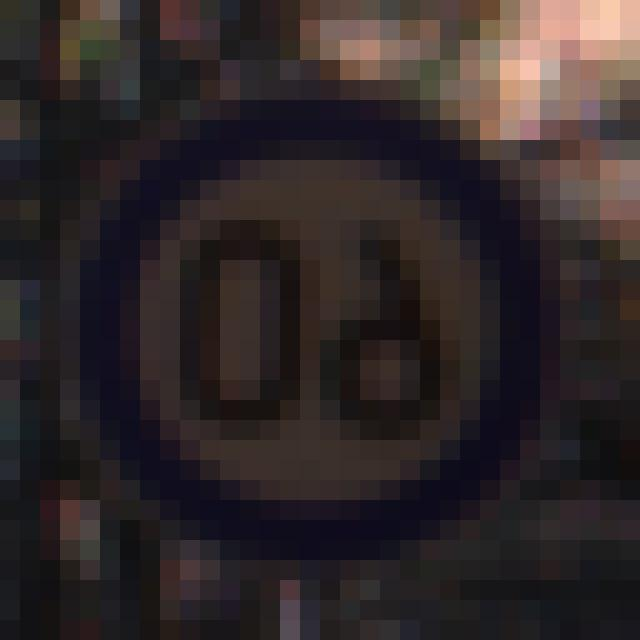SPEED-LIMIT-60: (104, 114, 518, 534)
